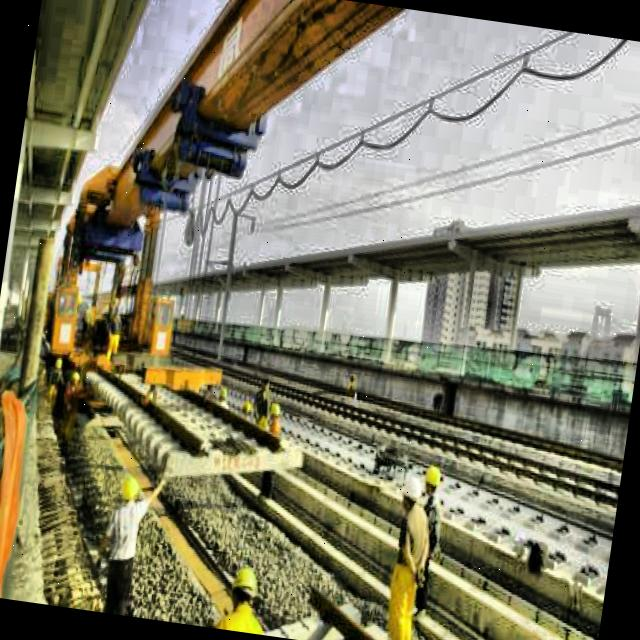helmet: (228, 564, 264, 614), (399, 470, 424, 516), (118, 473, 142, 512), (422, 464, 446, 501), (266, 399, 285, 422)
